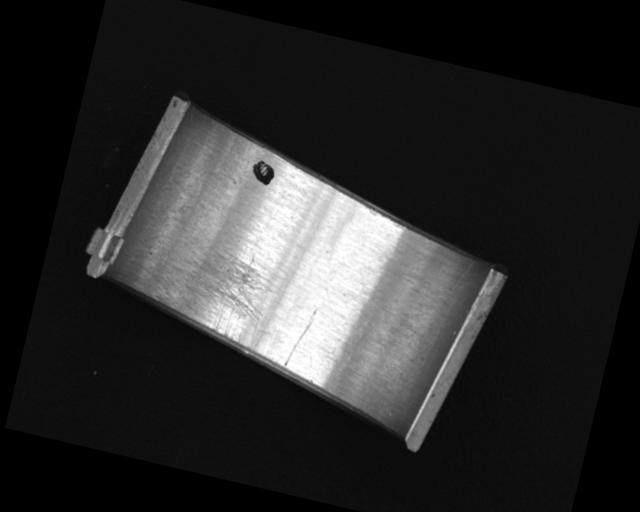blot: (248, 158, 277, 187)
nick: (407, 247, 475, 351), (284, 301, 320, 371)
scratch: (145, 235, 277, 353)
